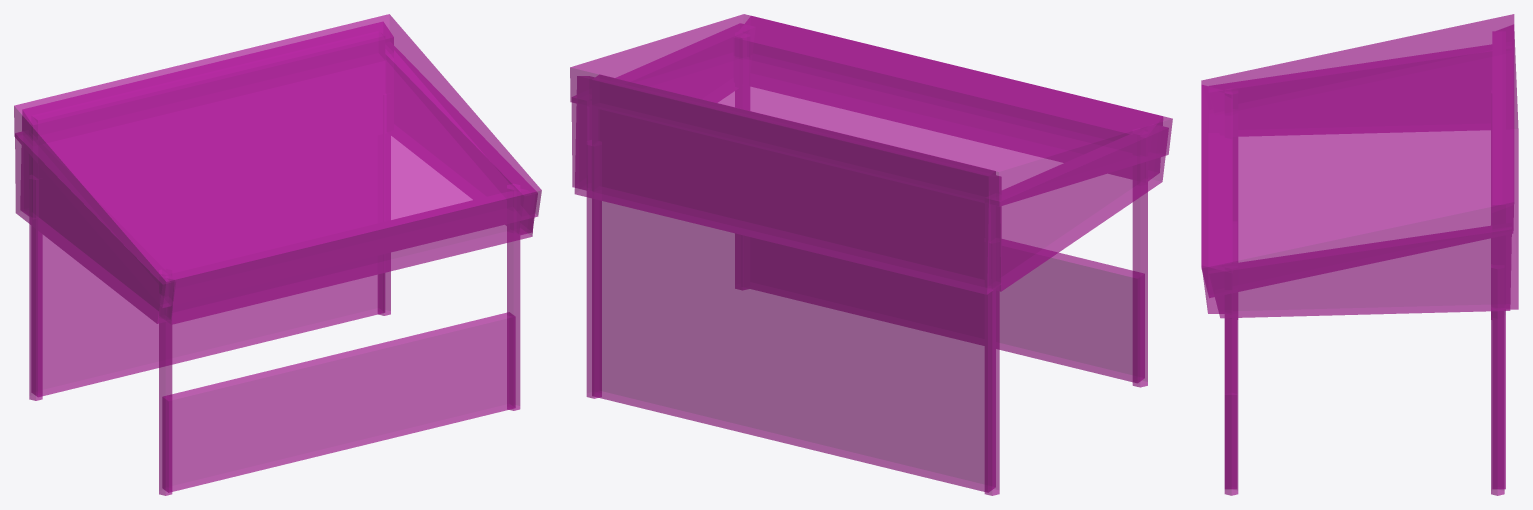
Rendered from SM_Prop_Stall_02_Damaged_01_Collision.fbx.
The picture shows the model from 3 angles, left to right: view 1: azimuth 30°, elevation 25°; view 2: azimuth 150°, elevation 25°; view 3: azimuth 270°, elevation 25°; orthographic projection. The views are drawn at different scales.
Parts seen in each view (by area): view 1: SM_Prop_Stall_02_Damaged_01_Collision; view 2: SM_Prop_Stall_02_Damaged_01_Collision; view 3: SM_Prop_Stall_02_Damaged_01_Collision.
Boxes of the visible parts, x1,y1,x2,y2 form: SM_Prop_Stall_02_Damaged_01_Collision: [14, 14, 541, 495]; SM_Prop_Stall_02_Damaged_01_Collision: [570, 14, 1172, 495]; SM_Prop_Stall_02_Damaged_01_Collision: [1201, 14, 1518, 495].
Bounding box in the file's own units: 402 × 296 × 286.
